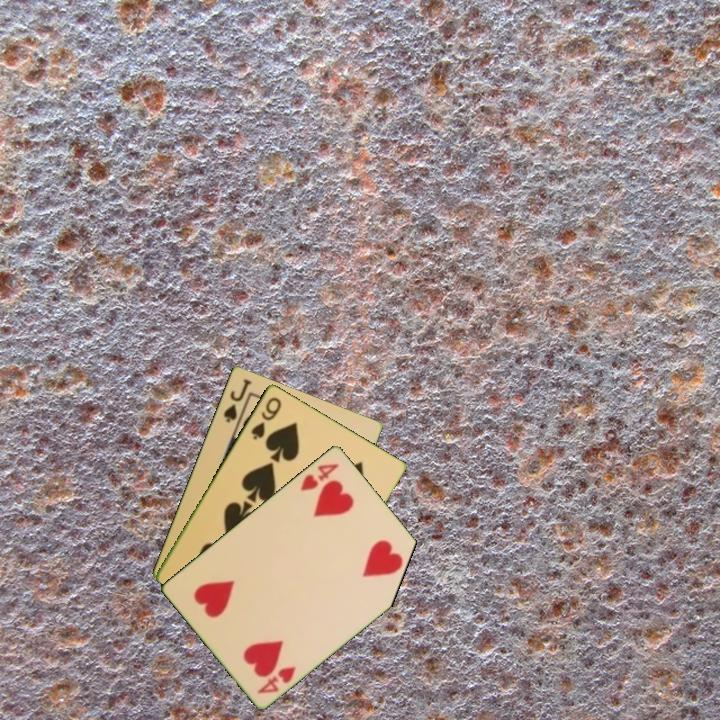4h: (253, 662, 299, 696), (297, 459, 342, 493)
9s: (247, 393, 284, 442)
Js: (220, 375, 254, 425)
